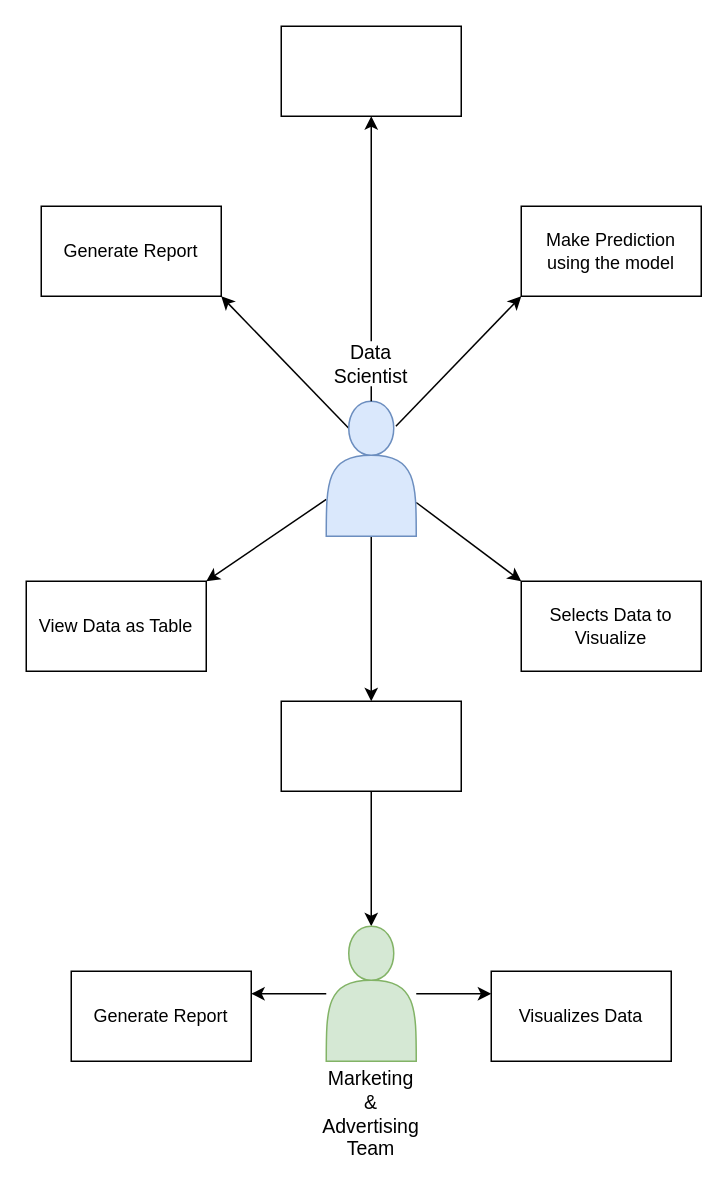
The diagram is 728 pixels wide and 1187 high, and some of its shapes have lost their labels. The shapes that lost their labels are listed below. From the top down, each one's centre as x and y in pixels, then its label:
the point at 370,70: Filtering the Data
the point at 370,745: Share Visualizations
